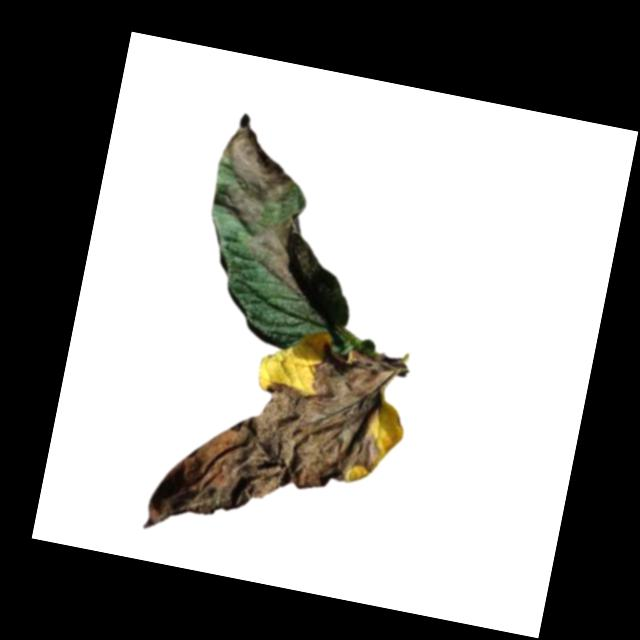Late_blight: (142, 308, 407, 574), (209, 111, 306, 229), (241, 206, 315, 300)
